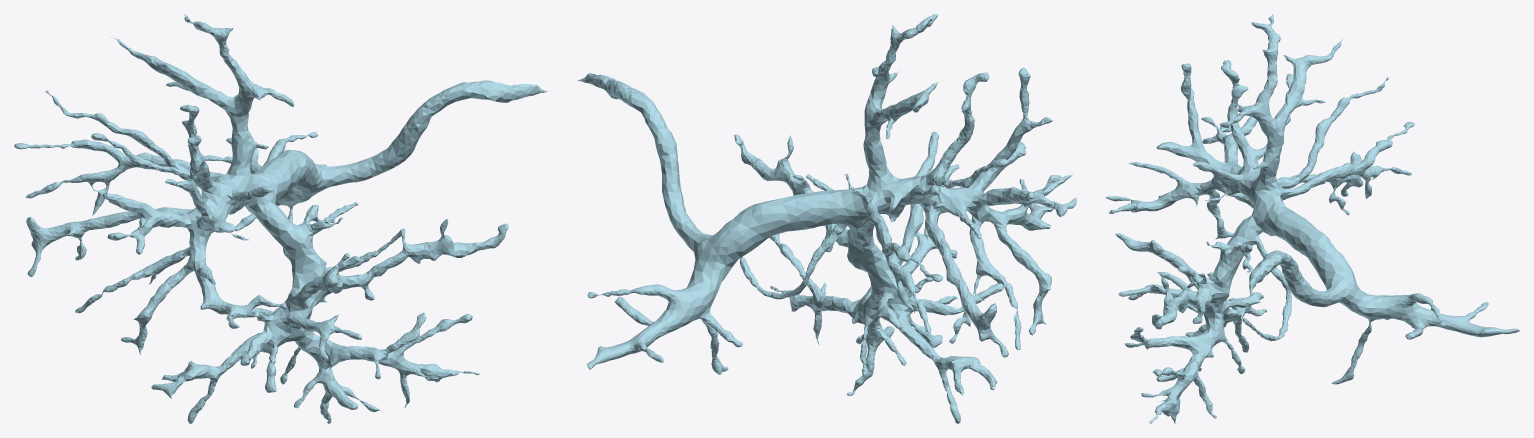
Rendered from portalvein.obj.
The picture shows the model from 3 angles, left to right: view 1: azimuth 30°, elevation 25°; view 2: azimuth 150°, elevation 25°; view 3: azimuth 270°, elevation 25°; orthographic projection. The views are drawn at different scales.
Parts seen in each view (by area): view 1: grp1; view 2: grp1; view 3: grp1.
Part boxes in pixels (x1,y1,x2,y2): grp1: (14,14,547,423); grp1: (578,14,1076,423); grp1: (1105,14,1519,423).
Bounding box in the file's own units: 206 × 175 × 184.
